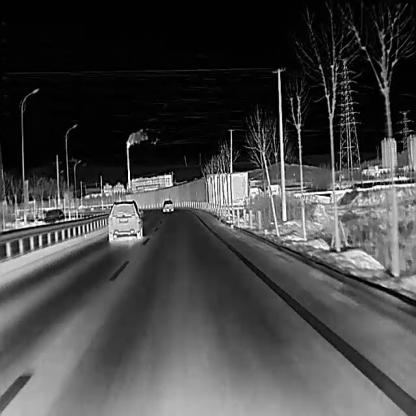car: (106, 198, 142, 242), (41, 207, 64, 227), (161, 198, 172, 212)
